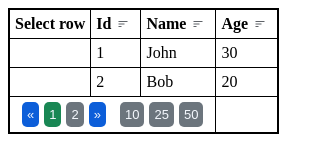
Test: Table component › Handles pagination
Check: the text "John" is shown, box [141,38,216,68]
Check: the text "William" is not shown
Step 1. Click the button "»" → x=97, y=114, box [89,102,106,127]
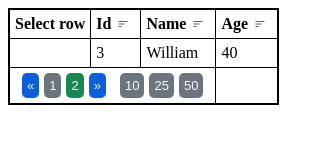
Check: the text "William" is shown, box [141,38,216,68]
Check: the text "John" is gone
